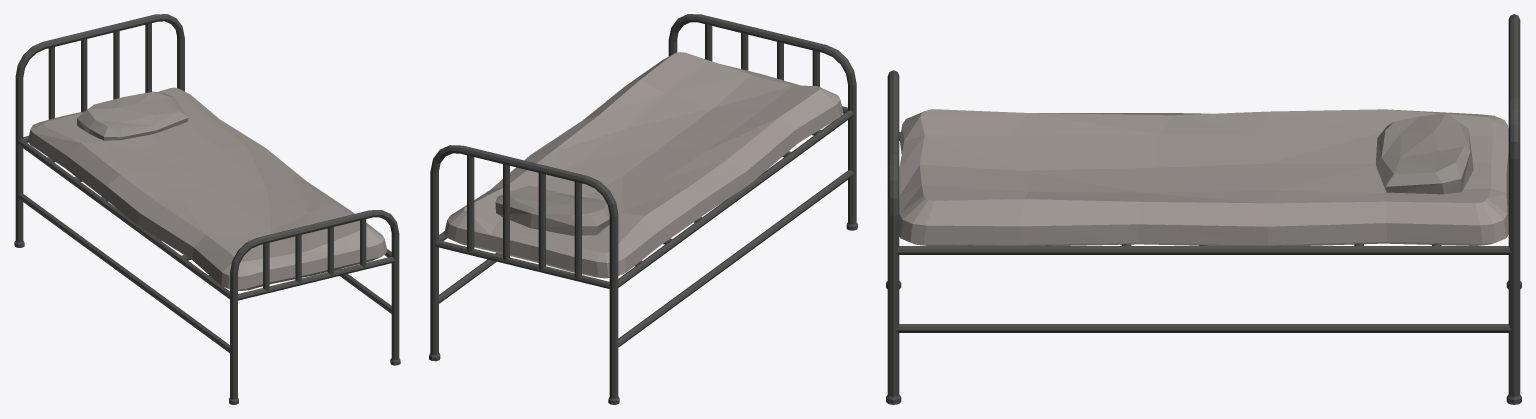
The model's file is Prop_Bed_Frame_01.fbx.
3 views of the same model, side by side, from view 1: azimuth 30°, elevation 25°; view 2: azimuth 150°, elevation 25°; view 3: azimuth 270°, elevation 25° (orthographic). The views are drawn at different scales.
Visible parts, largest first — view 1: Prop_Bed_Matress_01_LOD0, Prop_Bed_Frame_01_LOD0; view 2: Prop_Bed_Matress_01_LOD0, Prop_Bed_Frame_01_LOD0; view 3: Prop_Bed_Matress_01_LOD0, Prop_Bed_Frame_01_LOD0.
Part boxes in pixels (box(x1,y1,x2,y2)): Prop_Bed_Matress_01_LOD0: box(28, 87, 387, 290); Prop_Bed_Frame_01_LOD0: box(14, 14, 400, 404); Prop_Bed_Matress_01_LOD0: box(444, 52, 843, 278); Prop_Bed_Frame_01_LOD0: box(429, 14, 857, 404); Prop_Bed_Matress_01_LOD0: box(899, 109, 1508, 245); Prop_Bed_Frame_01_LOD0: box(886, 14, 1521, 404).
Size of what is drawn, in the model's own units: 84.49 by 93.73 by 188.
